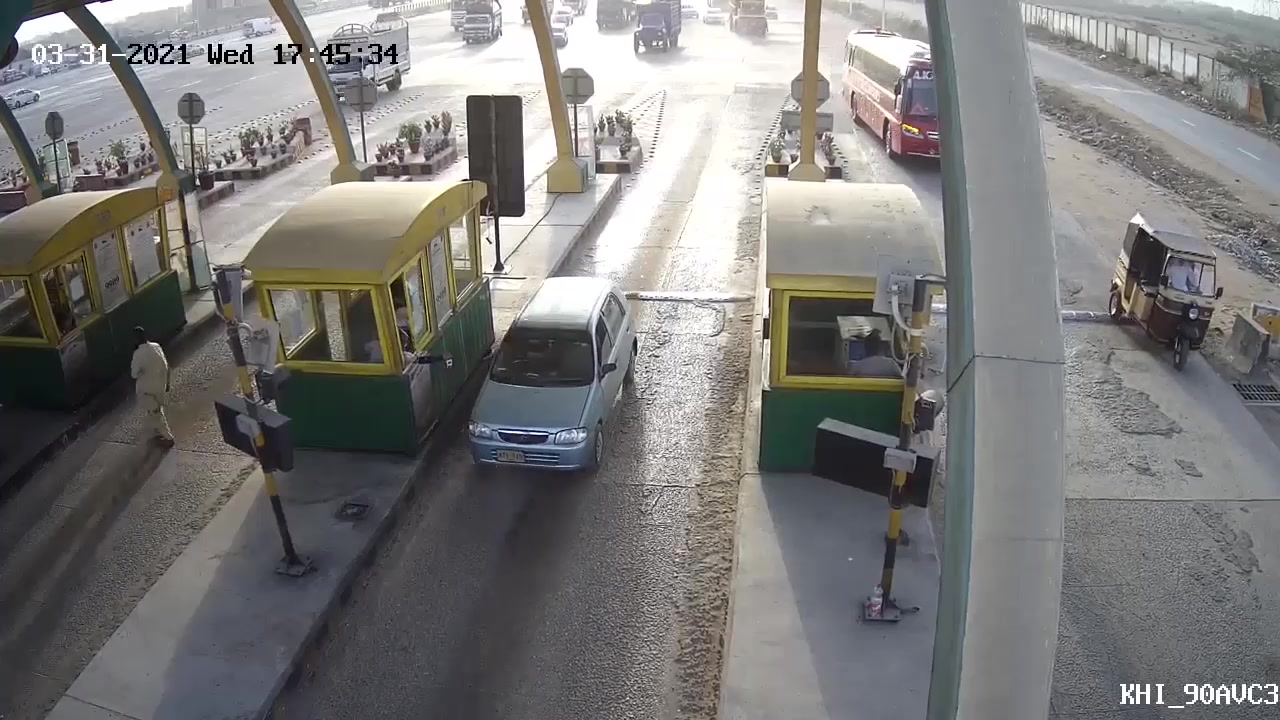F1: (466, 269, 640, 494)
